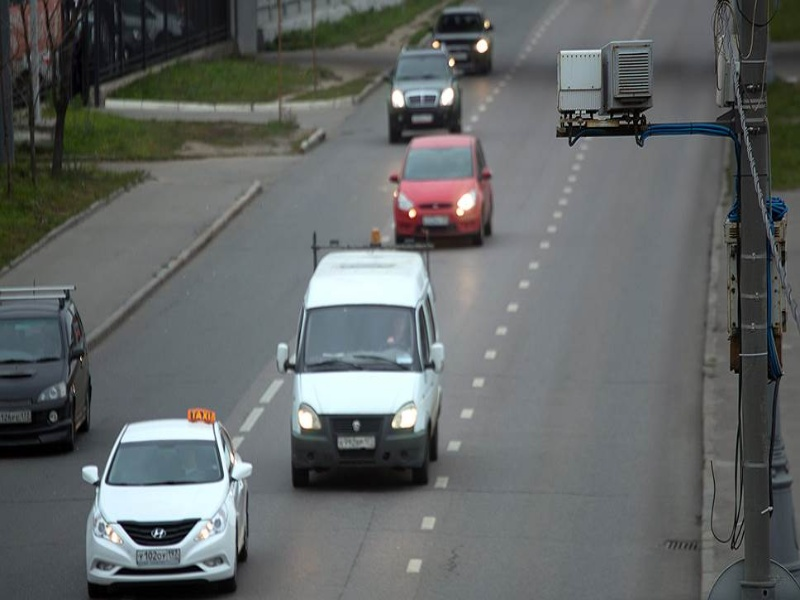car: (276, 249, 445, 487), (81, 419, 255, 599), (2, 295, 92, 451), (390, 134, 495, 245), (388, 42, 461, 140), (431, 8, 493, 72)
plate: (136, 549, 179, 561), (337, 437, 374, 448), (1, 409, 31, 422), (423, 216, 448, 224)
